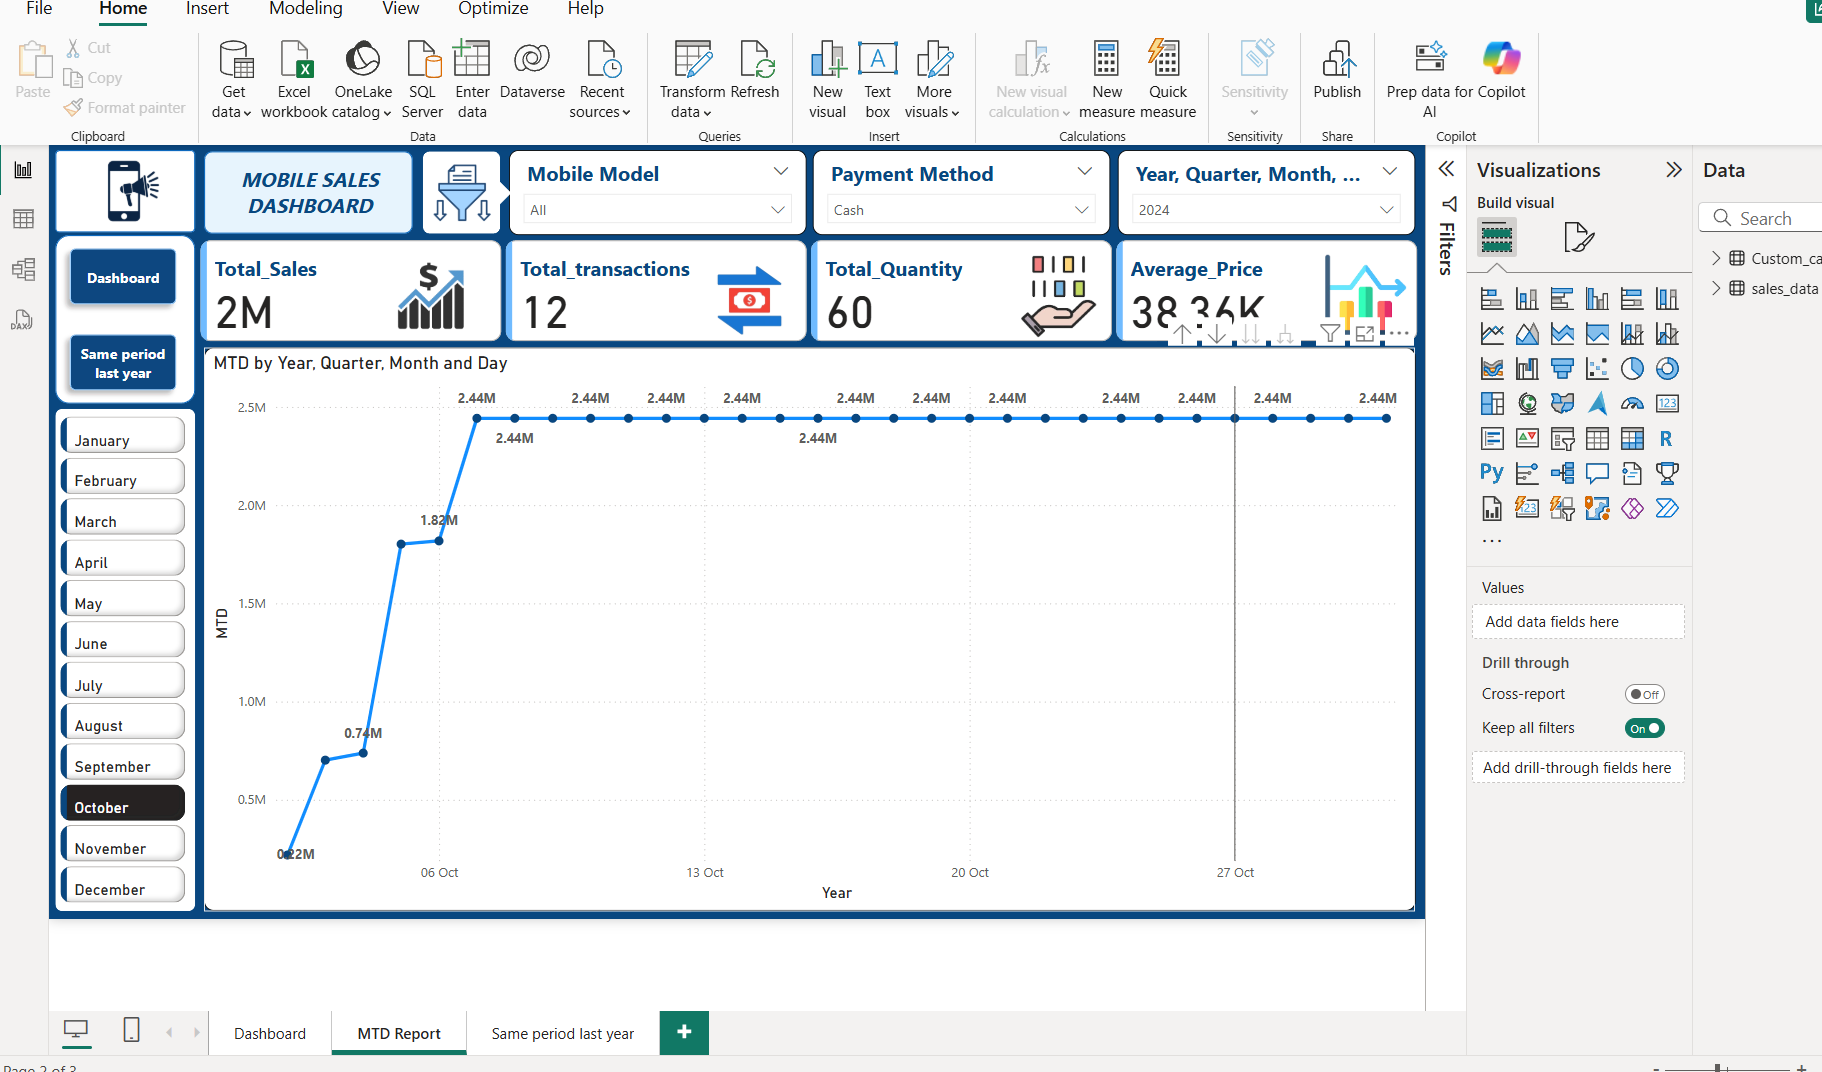

The page's visual inventory and layout, read from the dashboard file:
{"tool":"powerbi","page":{"name":"MTD Report","canvas":[1280,720],"ordinal":1},"visuals":[{"type":"shape","box":[5.8,4.7,130.2,76.7],"z":0},{"type":"image","box":[20.9,7,115.1,72.1],"z":1000},{"type":"shape","box":[5.8,83.7,130.2,157],"z":2000},{"type":"cardVisual","fields":{"Data":["sales_data.Total_Sales","sales_data.Total_transactions","sales_data.Total_Quantity","sales_data.Average_Price"]},"box":[136,83.7,1144.2,104.7],"z":3000},{"type":"slicer","fields":{"Values":["sales_data.Mobile Model"]},"box":[427.9,4.7,276.7,79.1],"z":4000},{"type":"slicer","fields":{"Values":["sales_data.Payment Method"]},"box":[710.5,4.7,276.7,79.1],"z":5000},{"type":"slicer","fields":{"Values":["Custom_calender.Date.Variation.Date Hierarchy.Year","Custom_calender.Date.Variation.Date Hierarchy.Quarter","Custom_calender.Date.Variation.Date Hierarchy.Month","Custom_calender.Date.Variation.Date Hierarchy.Day"]},"box":[994.2,4.7,276.7,79.1],"z":6000},{"type":"shape","box":[347.7,5.8,72.1,76.7],"z":7000},{"type":"shape","box":[365.1,20.9,65.1,47.7],"z":8000},{"type":"image","box":[352.3,9.3,64,69.8],"z":9000},{"type":"shape","box":[144.2,5.8,194.2,76.7],"z":10000},{"type":"textbox","box":[151.2,14,182.6,69.8],"z":11000},{"type":"lineChart","fields":{"Y":["sales_data.MTD"],"Category":["Custom_calender.Date.Variation.Date Hierarchy.Year","Custom_calender.Date.Variation.Date Hierarchy.Quarter","Custom_calender.Date.Variation.Date Hierarchy.Month","Custom_calender.Date.Variation.Date Hierarchy.Day"]},"box":[144.3,188.6,1127.1,524.3],"z":12000},{"type":"shape","box":[5.8,245.3,130.2,467.4],"z":13000},{"type":"advancedSlicerVisual","fields":{"Values":["Custom_calender.Date.Variation.Date Hierarchy.Month"]},"box":[5.8,247.7,126.7,472.1],"z":14000},{"type":"pageNavigator","box":[10,87.1,117.1,151.4],"z":15000}]}

Visuals, with their boxes on the page's 1280x720 design canvas (x1, y1, x2, y2). These are canvas units, not pixel positions in the 1822x1072 screenshot, which may show the page scaled, cropped or inside an application window:
shape: (6,5,136,81)
image: (21,7,136,79)
shape: (6,84,136,241)
cardVisual - sales_data.Total_Sales x sales_data.Total_transactions: (136,84,1280,188)
slicer - sales_data.Mobile Model: (428,5,705,84)
slicer - sales_data.Payment Method: (710,5,987,84)
slicer - Custom_calender.Date.Variation.Date Hierarchy.Year x Custom_calender.Date.Variation.Date Hierarchy.Quarter: (994,5,1271,84)
shape: (348,6,420,82)
shape: (365,21,430,69)
image: (352,9,416,79)
shape: (144,6,338,82)
textbox: (151,14,334,84)
lineChart - sales_data.MTD x Custom_calender.Date.Variation.Date Hierarchy.Year: (144,189,1271,713)
shape: (6,245,136,713)
advancedSlicerVisual - Custom_calender.Date.Variation.Date Hierarchy.Month: (6,248,132,720)
pageNavigator: (10,87,127,238)
